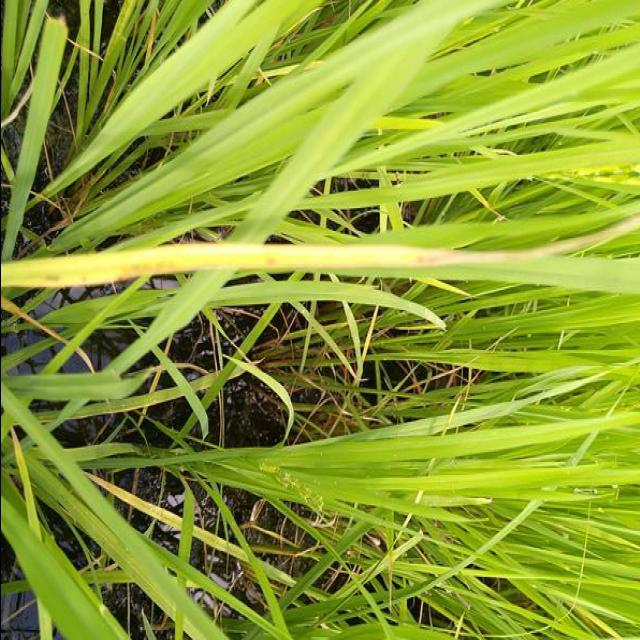Leaf Blight: (0, 214, 640, 291)
